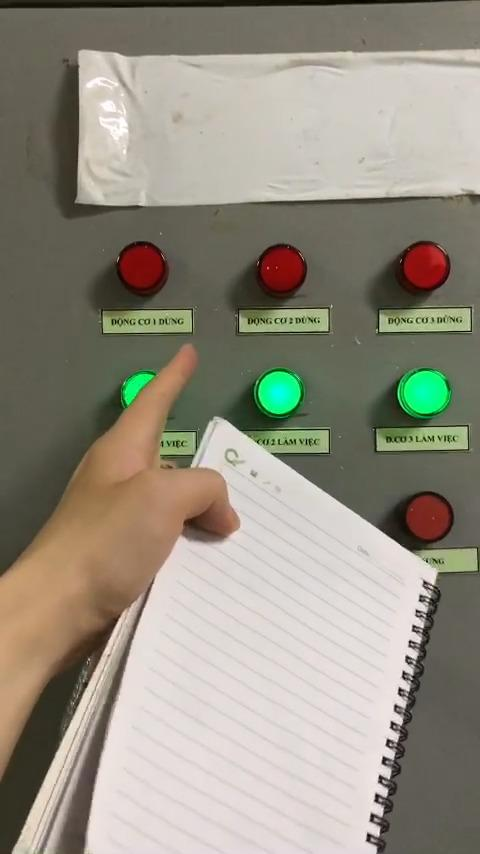led: (111, 235, 173, 298), (253, 238, 314, 299), (394, 491, 458, 549), (389, 369, 453, 424), (393, 237, 451, 295), (246, 369, 305, 421), (119, 371, 158, 415)
